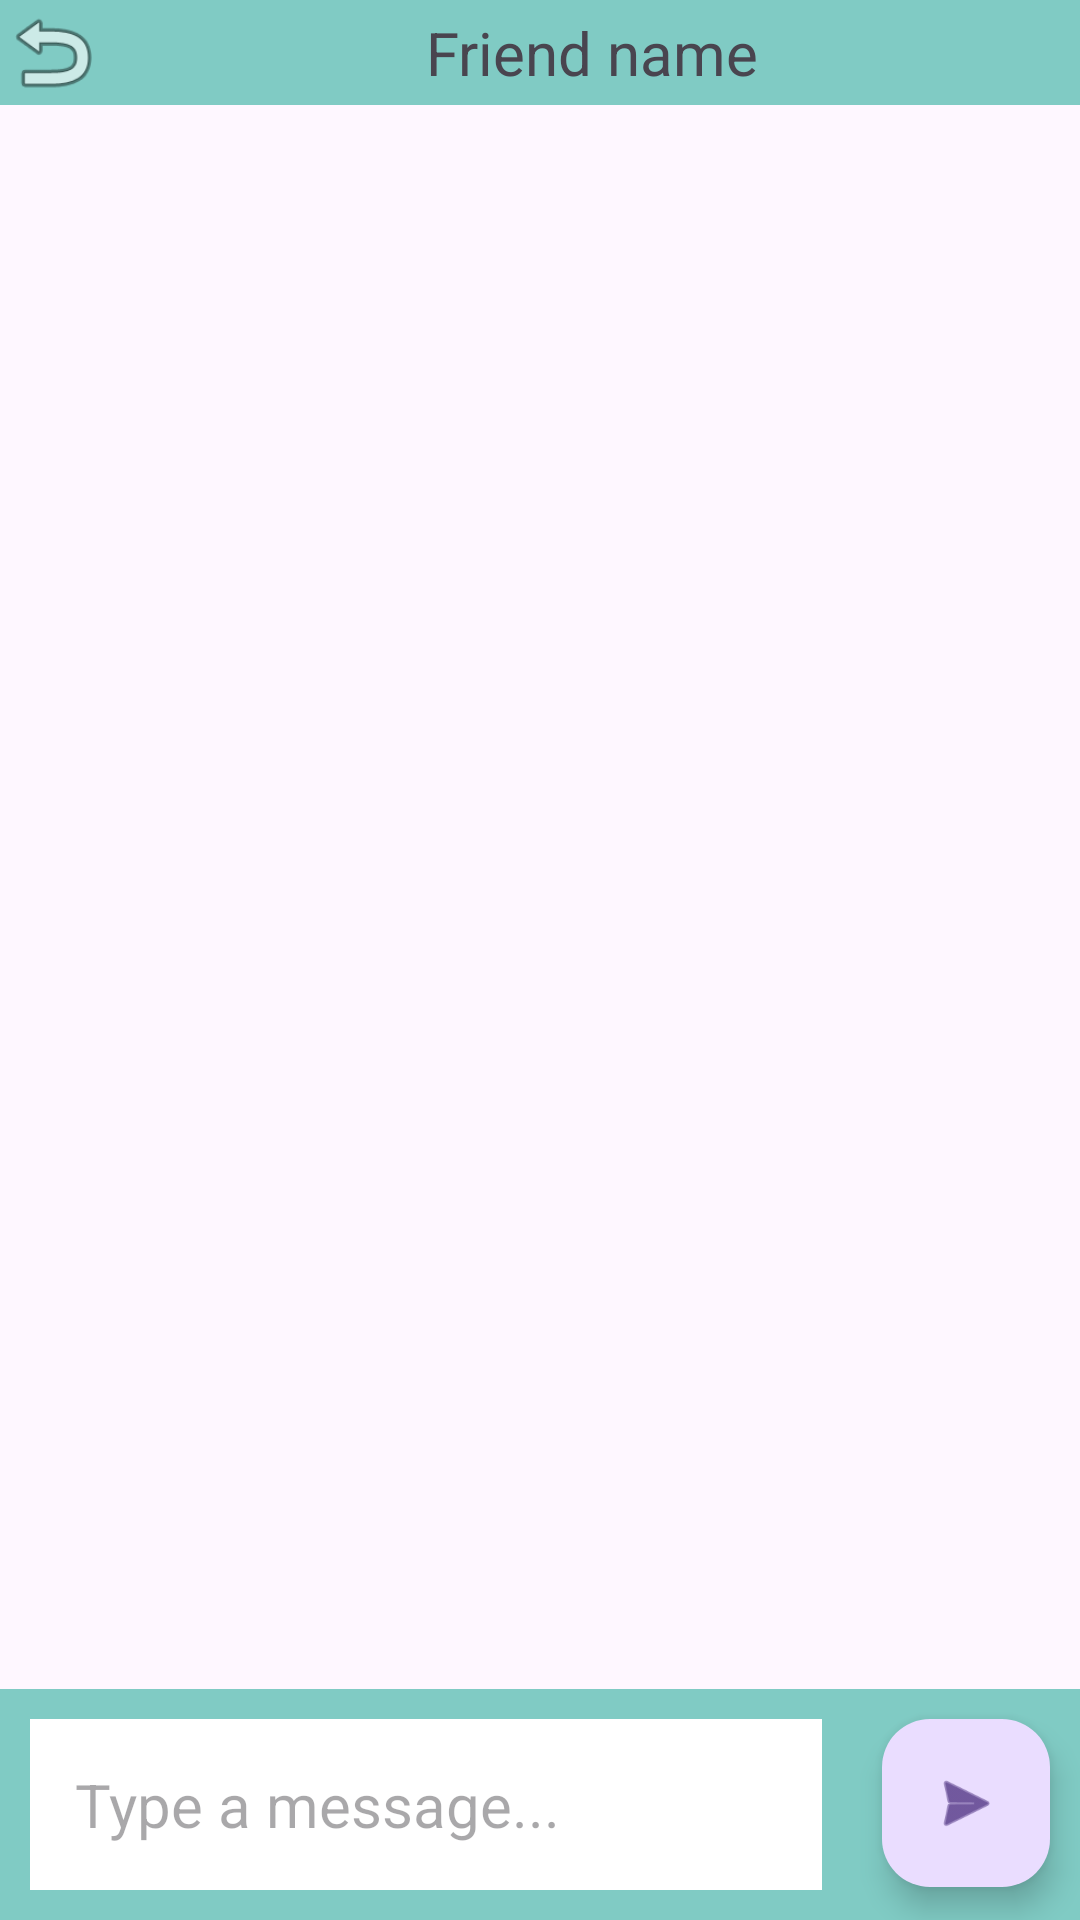

Named icons in this screenshot (1080*1920) and their bounding boxes, [x1,y1,x2,y2]:
revert: [16,19,92,88]
send: [882,1719,1050,1887]
